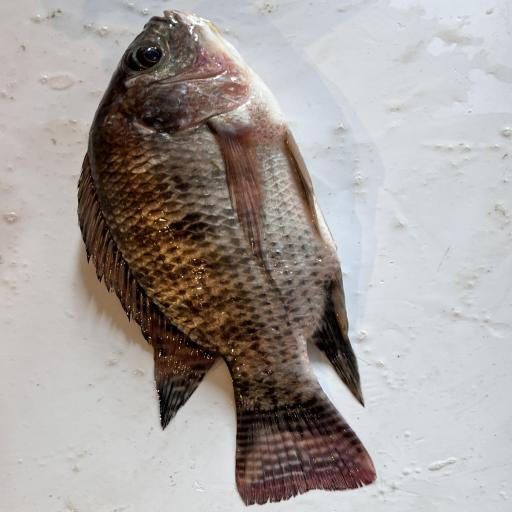Tilapia: (77, 10, 377, 506)
